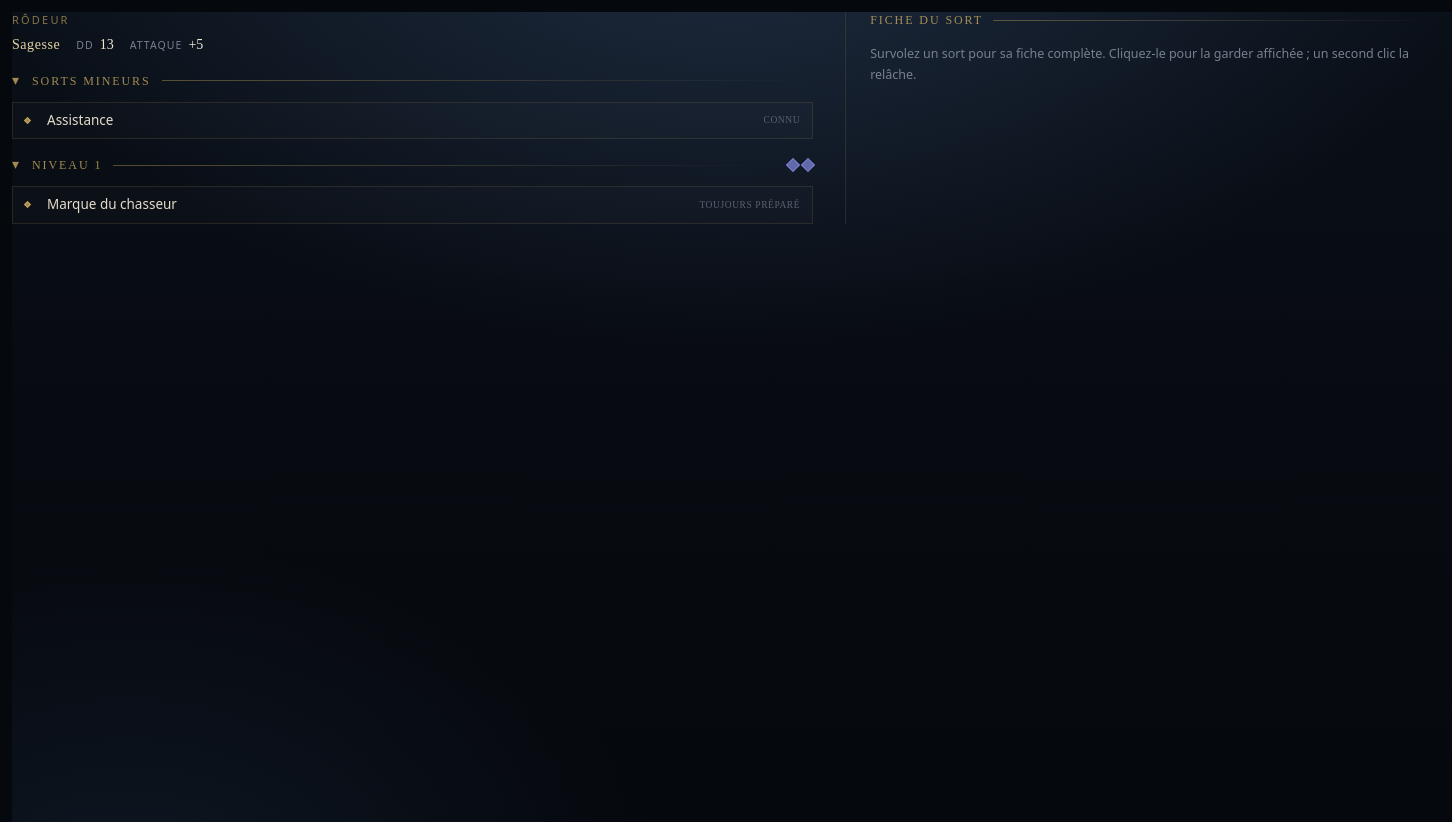
Test: GrimoireTabContainer › garde le sort cliqué quand le survol cesse, et revient à lui après un autre
Click the button "Marque du chasseur Toujours préparé": (112, 204) [12,186,813,224]
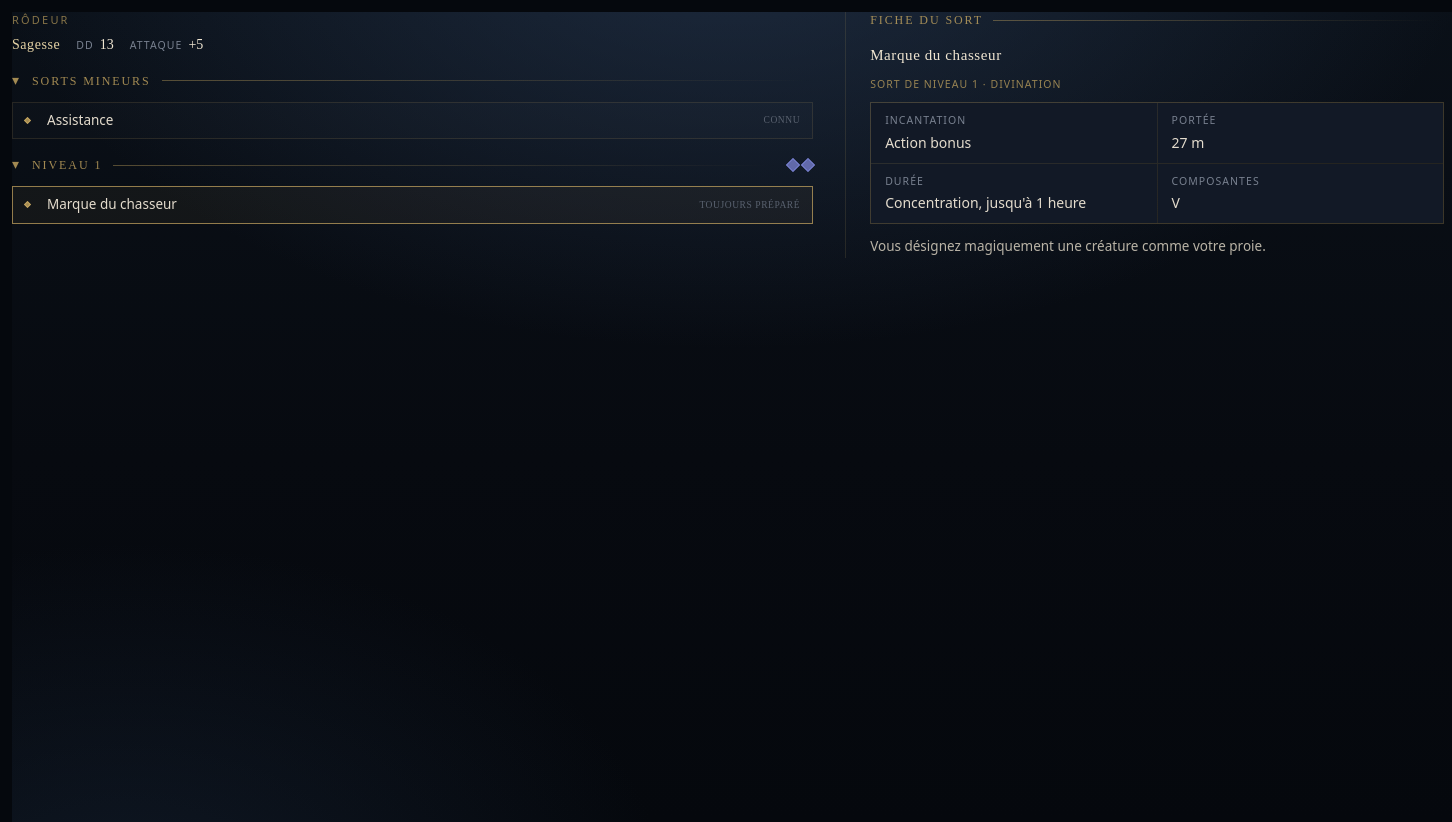
Hover over the button "Assistance Connu": (80, 120) [12,102,813,139]
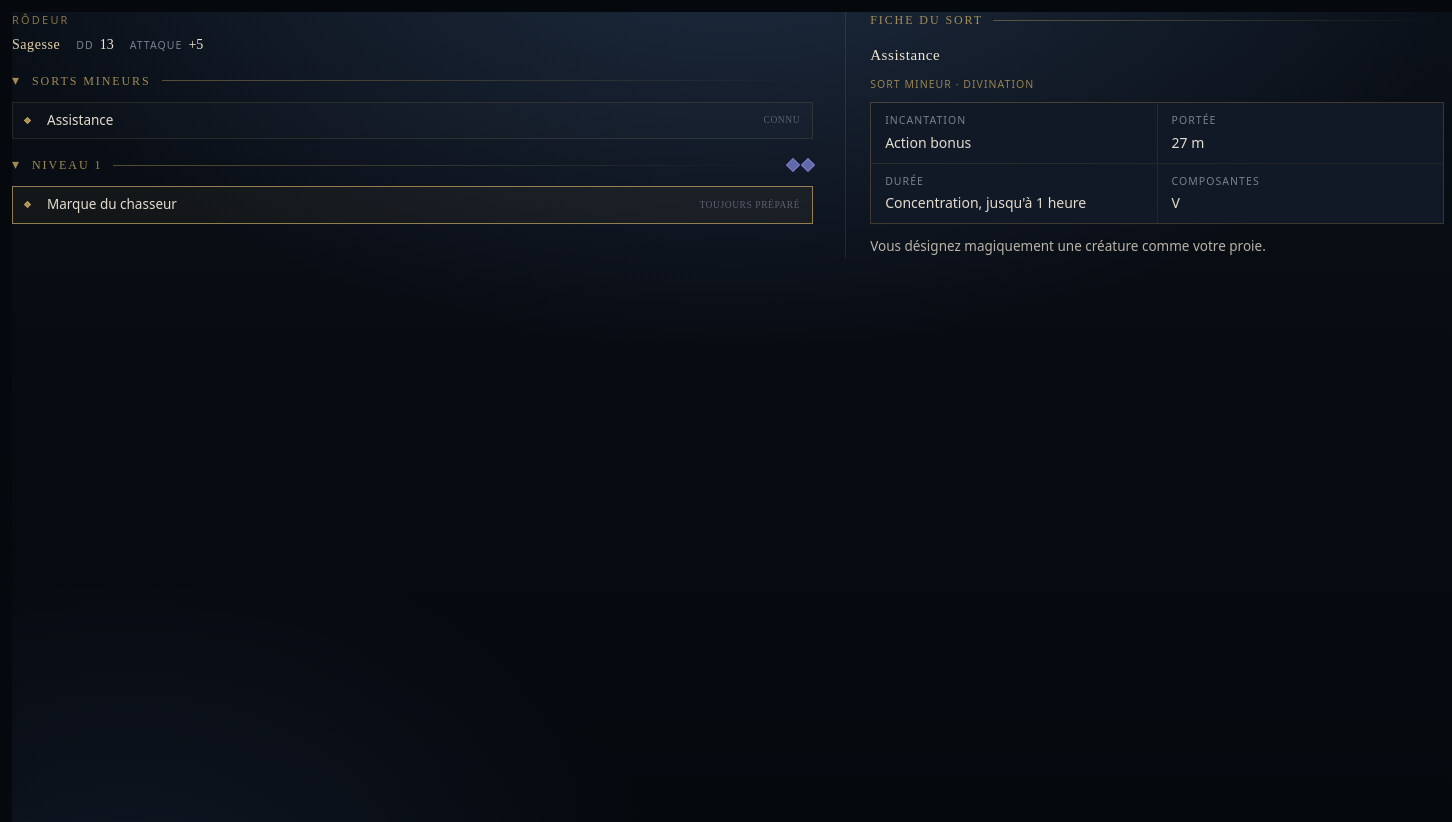
Expected: the text "Sort mineur · Divination" is shown, [870,76,1034,90]
Move the pointer off the button "Assistance Connu", box [12,102,813,139]
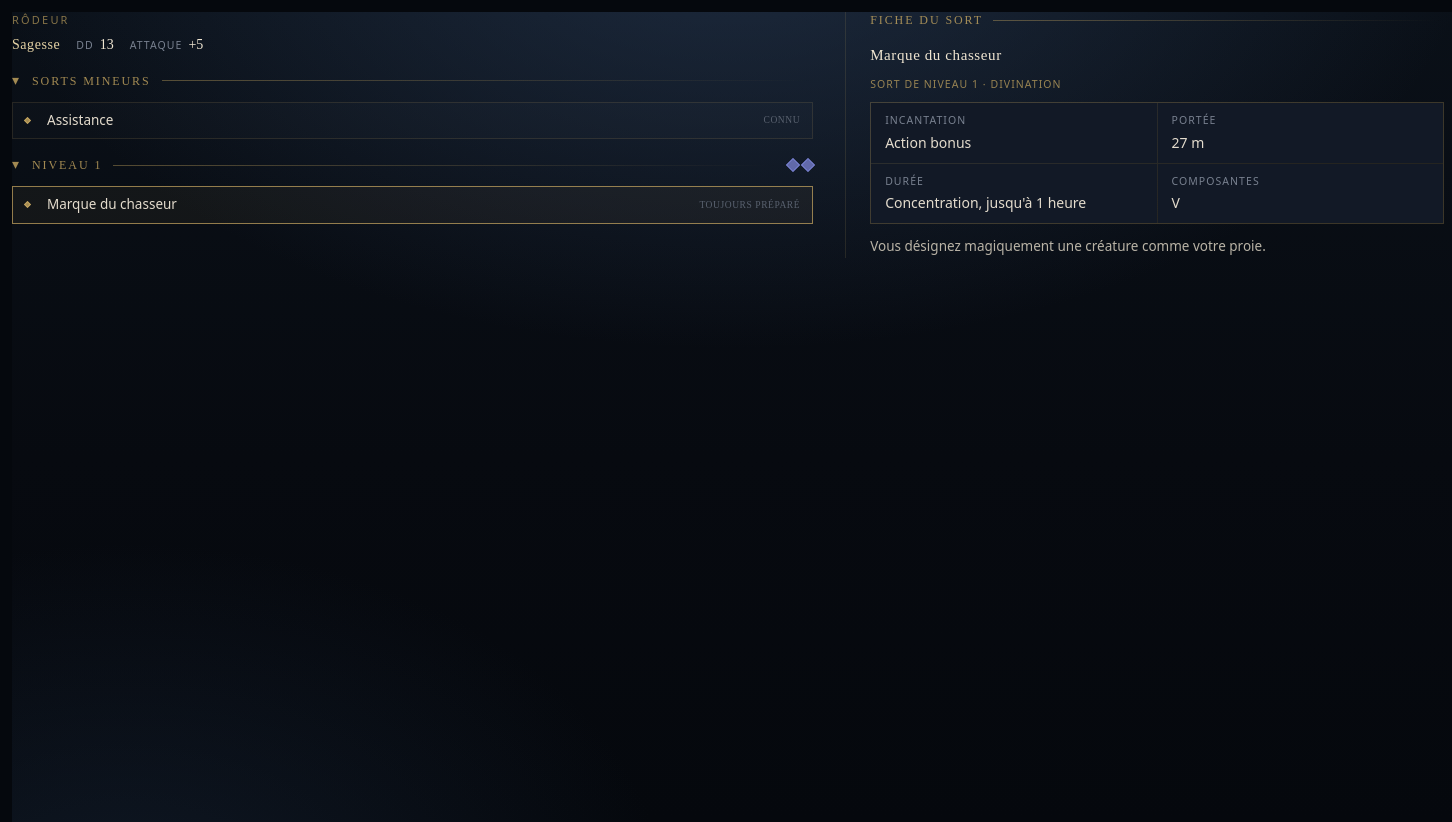
Expected: the text "Sort de niveau 1 · Divination" is shown, [870,76,1062,90]
